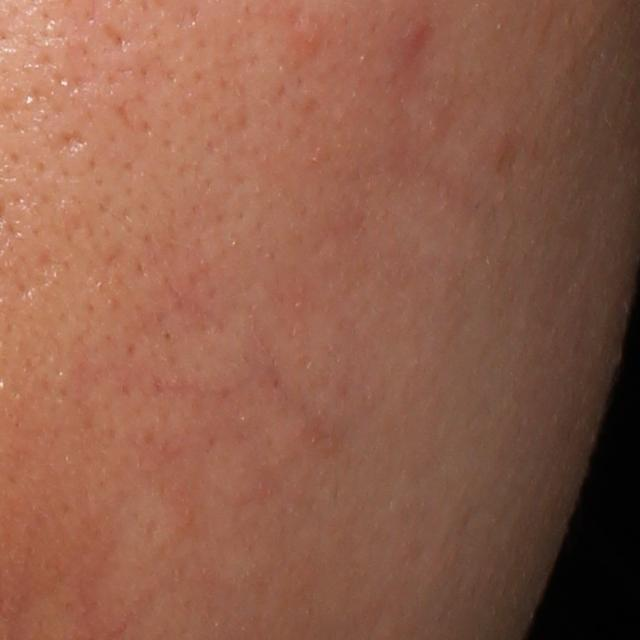atrophic_scar: (53, 129, 86, 156)
papule: (398, 16, 432, 58)
